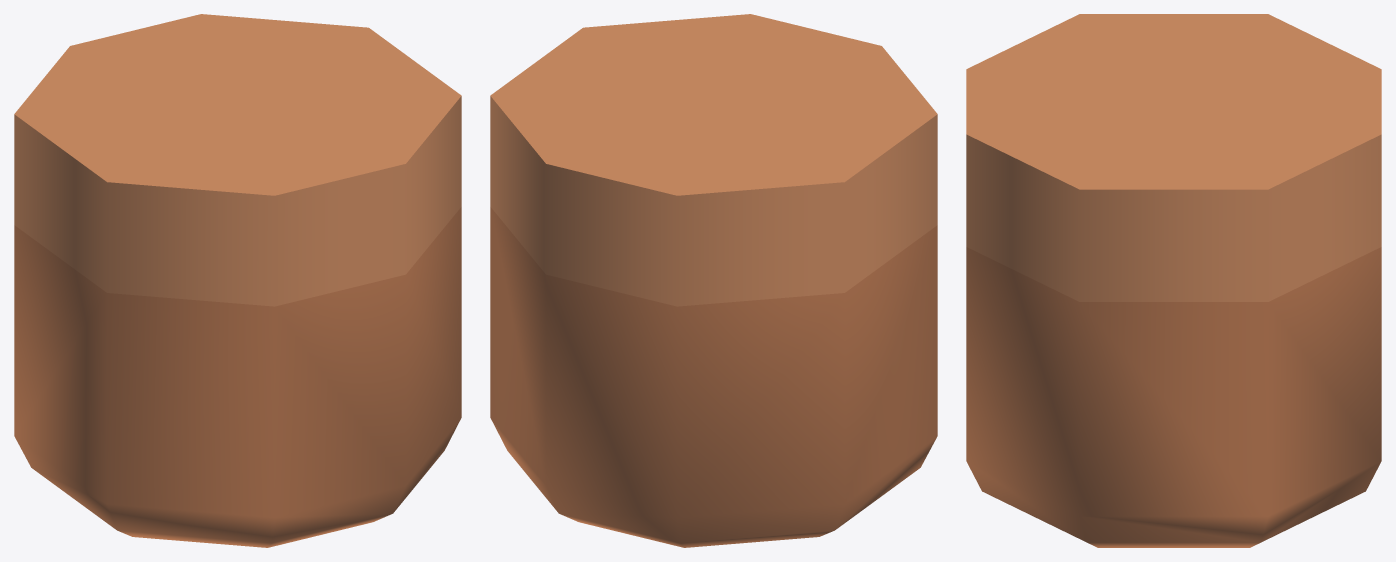
File: mini_tile_botton.glb
3 views of the same model, side by side, from view 1: azimuth 30°, elevation 25°; view 2: azimuth 150°, elevation 25°; view 3: azimuth 270°, elevation 25° (orthographic).
Parts seen in each view (by area): view 1: mini_tile_botton; view 2: mini_tile_botton; view 3: mini_tile_botton.
Boxes of the visible parts, box(x1,y1,x2,y2) form: mini_tile_botton: box(14, 14, 461, 547); mini_tile_botton: box(490, 14, 937, 547); mini_tile_botton: box(966, 14, 1381, 547).
Size of the model in its own units: 0.5 by 0.4983 by 0.4998.
